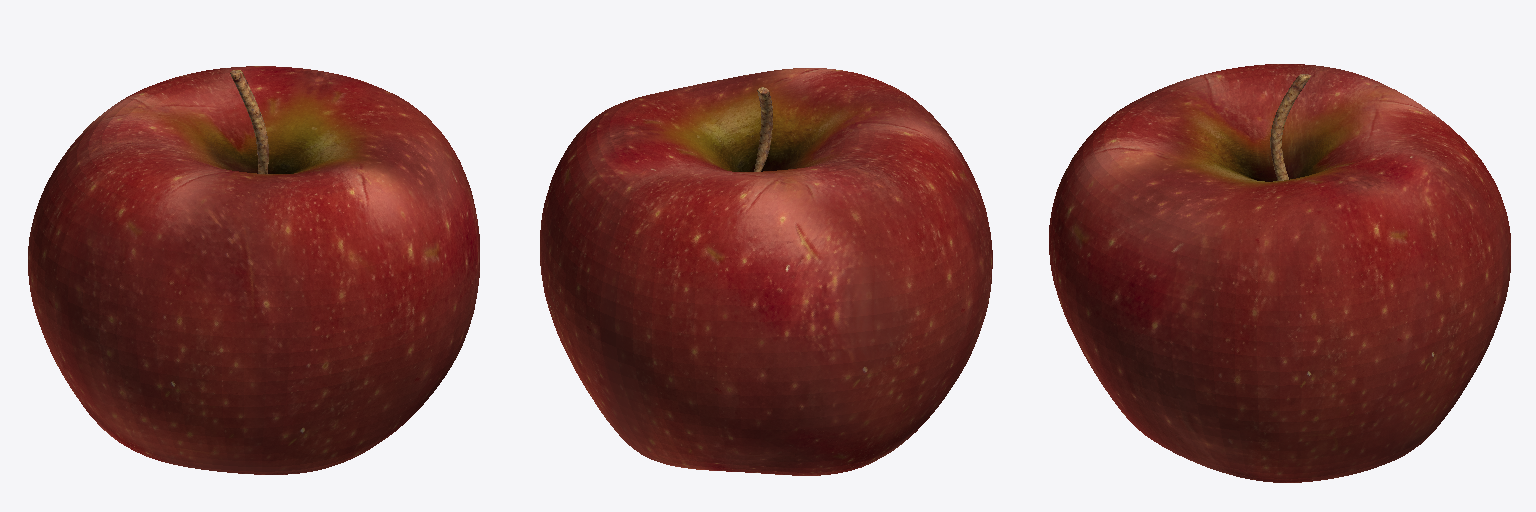
3 renders of one model, left to right at view 1: azimuth 30°, elevation 25°; view 2: azimuth 150°, elevation 25°; view 3: azimuth 270°, elevation 25°, orthographic.
Visible parts, largest first — view 1: Apple_Sphere.001; view 2: Apple_Sphere.001; view 3: Apple_Sphere.001.
Boxes of the visible parts, x1,y1,x2,y2 form: Apple_Sphere.001: [28, 66, 479, 474]; Apple_Sphere.001: [540, 68, 992, 475]; Apple_Sphere.001: [1049, 64, 1510, 482].
Bounding box in the file's own units: 0.88 × 0.7431 × 0.8784.
Materials: 1 (1 with a texture image).